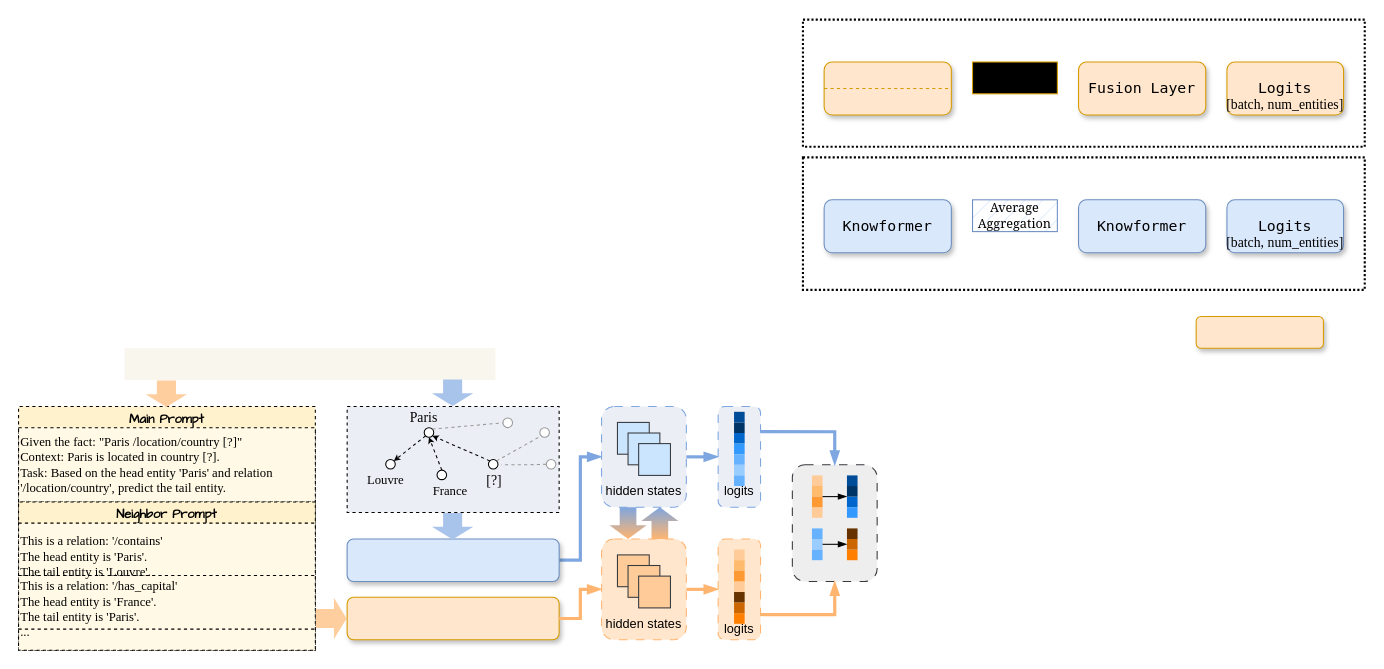
The diagram is 1384 pixels wide and 669 high, and some of its shapes have lost their labels. Here are the shapes that lost their labels. From the top down, the centre of each, then its label:
At (888,89): "LLM LoRA Adaptor".
At (309,363): "(Paris, location country, ?)".
At (834,522): "Distillation".
At (454,561): "Structural Encoder".
At (454,619): "Textual Encoder".
